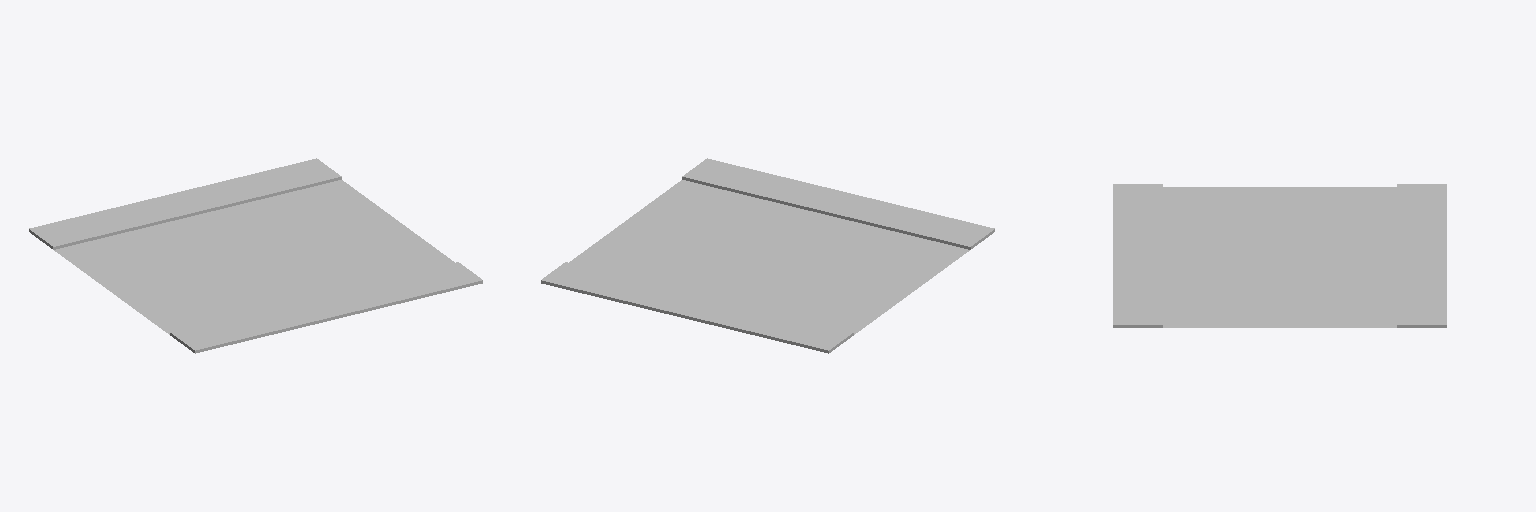
The model's file is city_septm.obj.
3 views of the same model, side by side, from view 1: azimuth 30°, elevation 25°; view 2: azimuth 150°, elevation 25°; view 3: azimuth 270°, elevation 25° (orthographic).
Parts seen in each view (by area): view 1: city_septm_Plane.008; view 2: city_septm_Plane.008; view 3: city_septm_Plane.008.
Part boxes in pixels (left/top/right/bottom): city_septm_Plane.008: left=29, top=158, right=482, bottom=353; city_septm_Plane.008: left=541, top=158, right=994, bottom=353; city_septm_Plane.008: left=1113, top=184, right=1446, bottom=327.
Size of the model in its own units: 1.6 by 0.016 by 1.6.